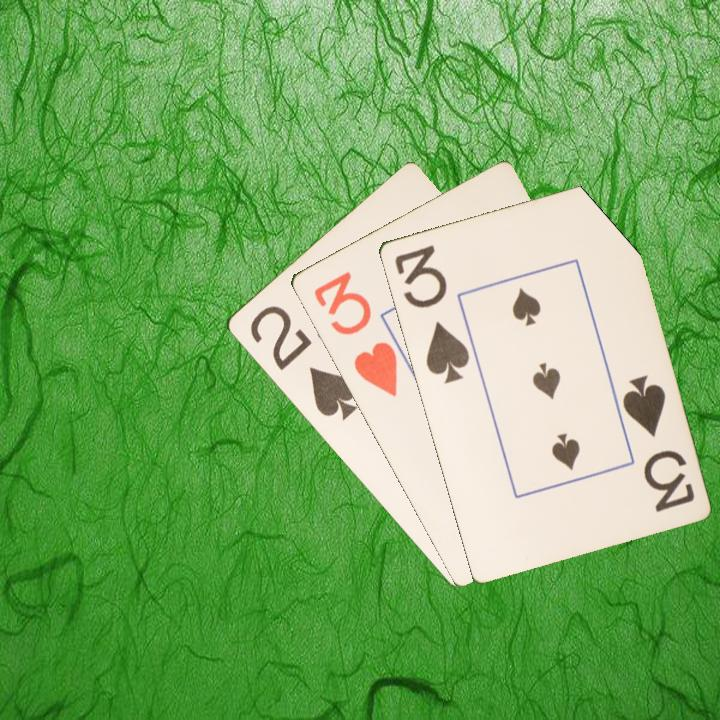2s: (245, 301, 361, 423)
3h: (309, 267, 400, 400)
3s: (390, 241, 472, 386), (618, 371, 697, 515)
